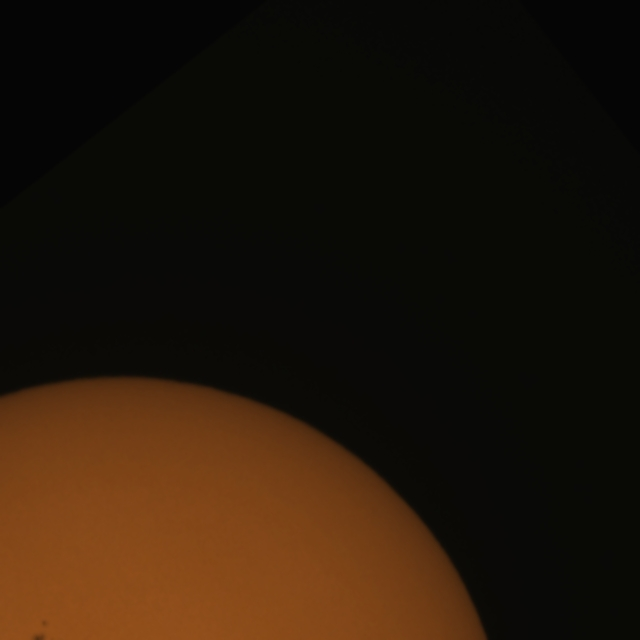sunspot: (28, 618, 53, 640), (39, 618, 50, 630)
